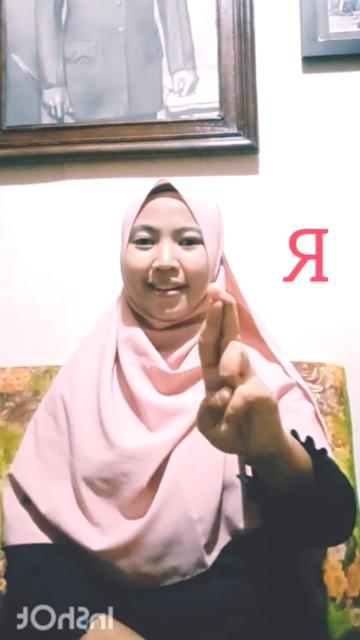R: (194, 278, 280, 466)
